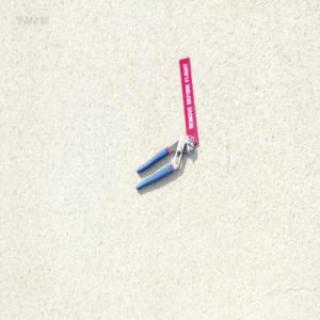LuggageTagtrack_idkeyframe: (178, 55, 198, 143)
Pliertrack_idkeyframe: (134, 132, 194, 191)
